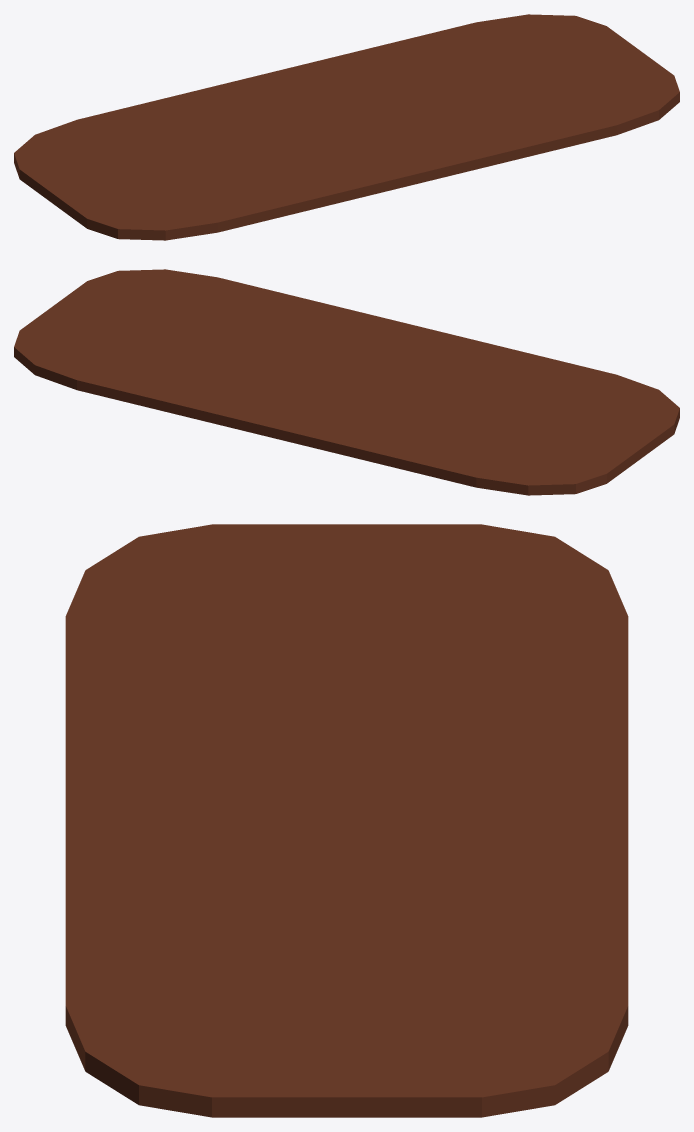
The model's file is LooseTable.fbx.
The picture shows the model from 3 angles, top to bottom: view 1: azimuth 30°, elevation 25°; view 2: azimuth 150°, elevation 25°; view 3: azimuth 270°, elevation 25°; orthographic projection. The views are drawn at different scales.
Parts seen in each view (by area): view 1: MesaComedor; view 2: MesaComedor; view 3: MesaComedor.
Boxes of the visible parts, bbox=[...] form: MesaComedor: bbox=[14, 14, 679, 240]; MesaComedor: bbox=[14, 269, 679, 495]; MesaComedor: bbox=[65, 524, 628, 1117].
Bounding box in the file's own units: 345 × 5.64 × 143.
